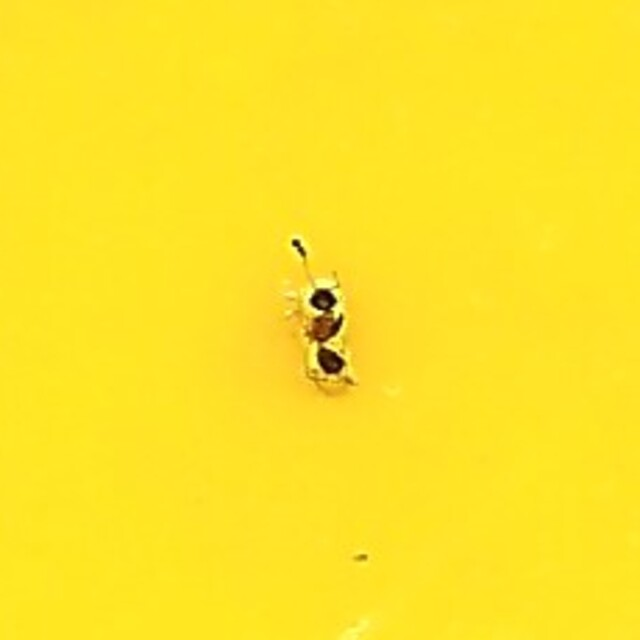Hymenoptera: (278, 244, 362, 396)
